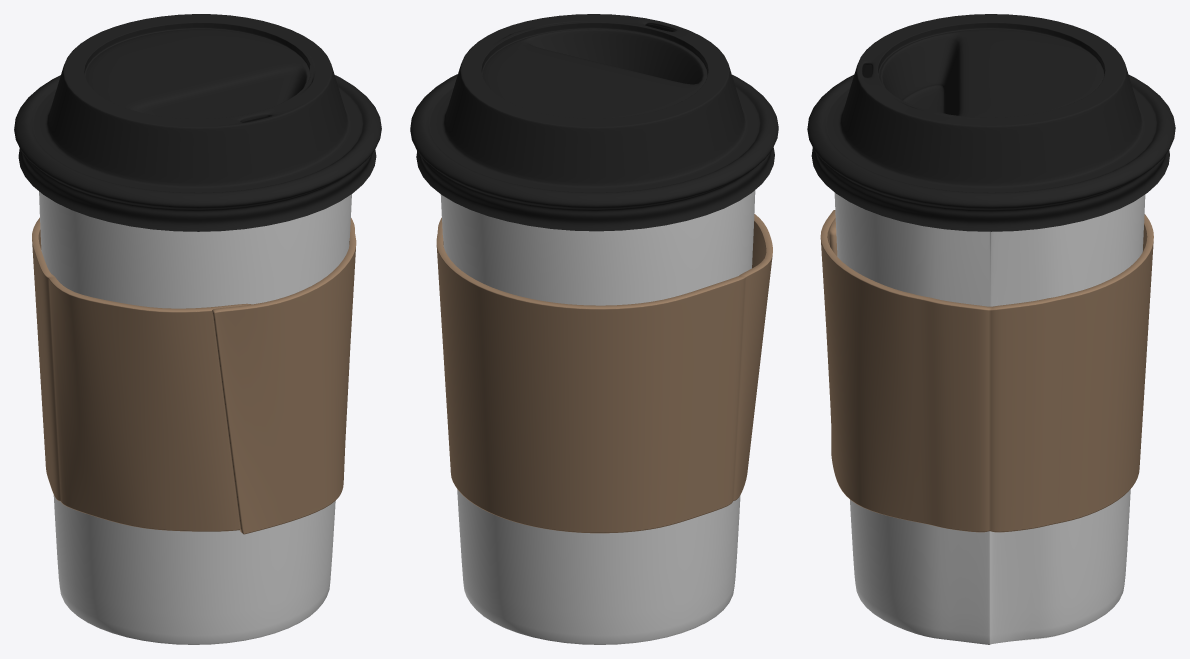
The model's file is TakeOutCup.fbx.
The picture shows the model from 3 angles, left to right: view 1: azimuth 30°, elevation 25°; view 2: azimuth 150°, elevation 25°; view 3: azimuth 270°, elevation 25°; orthographic projection.
Parts seen in each view (by area): view 1: Circle.002, Circle.001, Circle; view 2: Circle.002, Circle.001, Circle; view 3: Circle.002, Circle.001, Circle.
Boxes of the visible parts, bbox=[...] form: Circle.002: bbox=[32, 217, 356, 534]; Circle.001: bbox=[14, 14, 381, 231]; Circle: bbox=[39, 191, 351, 644]; Circle.002: bbox=[436, 214, 772, 533]; Circle.001: bbox=[410, 14, 778, 231]; Circle: bbox=[440, 190, 755, 644]; Circle.002: bbox=[820, 210, 1153, 532]; Circle.001: bbox=[807, 14, 1175, 231]; Circle: bbox=[834, 192, 1145, 644].
Size of the model in its own units: 264 by 409 by 263.
